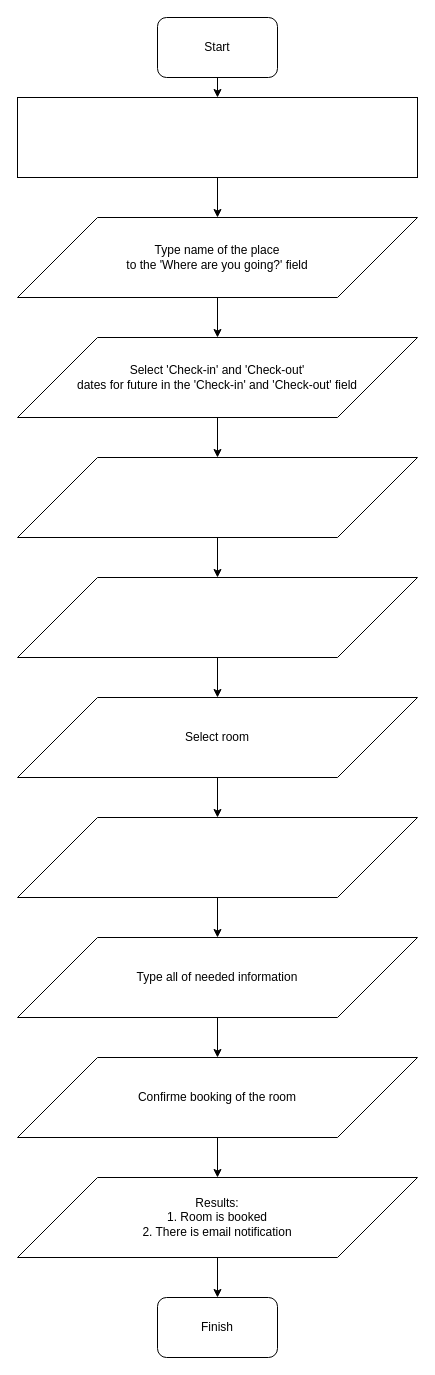
Some shapes in this 435 by 1375 pixel diagram are drawn without their labels. The centre of each missing label's shape, as x and y in pixels:
"1. User authorized on booking.com 2. User placed on the main booking.com page" belongs at point (217, 137).
"Click to the Reserve button" belongs at point (217, 857).
"Select one of the provided item" belongs at point (217, 617).
"Select the count of Adults/Children/Rooms in the 'Adults/Children/Rooms' field" belongs at point (217, 497).
